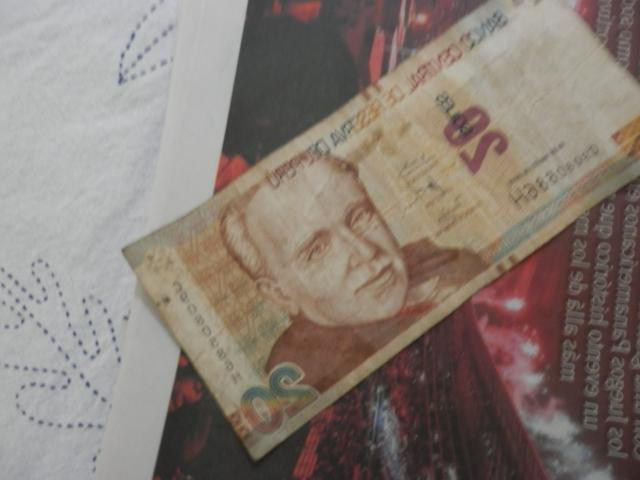B20: (124, 1, 639, 462)
